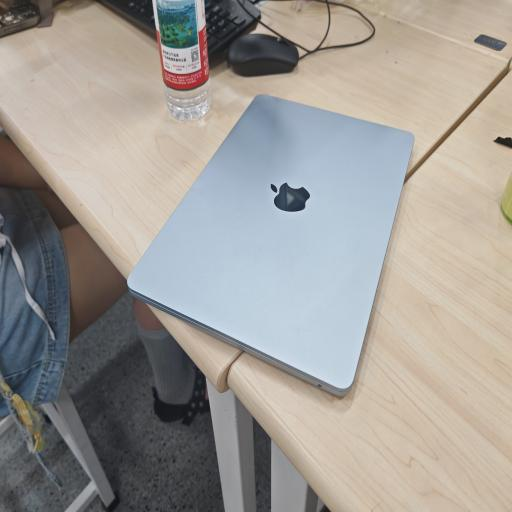laptop: (128, 95, 413, 395)
mouse: (226, 34, 298, 76)
